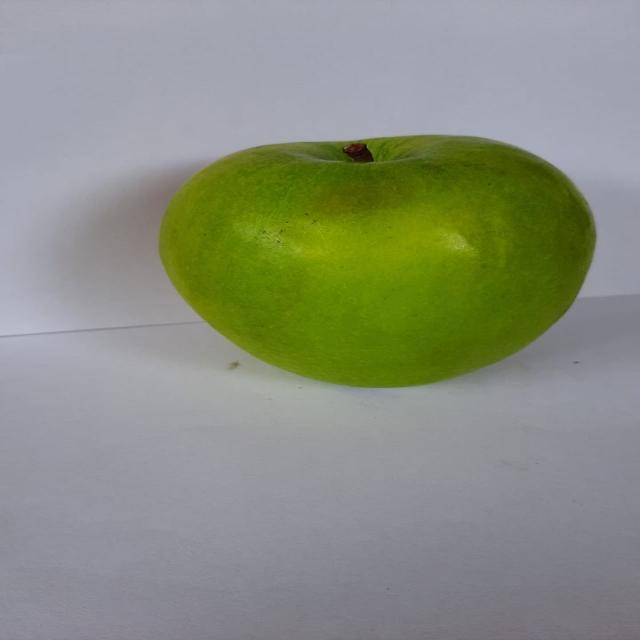50-_ripeness: (114, 110, 616, 400)
